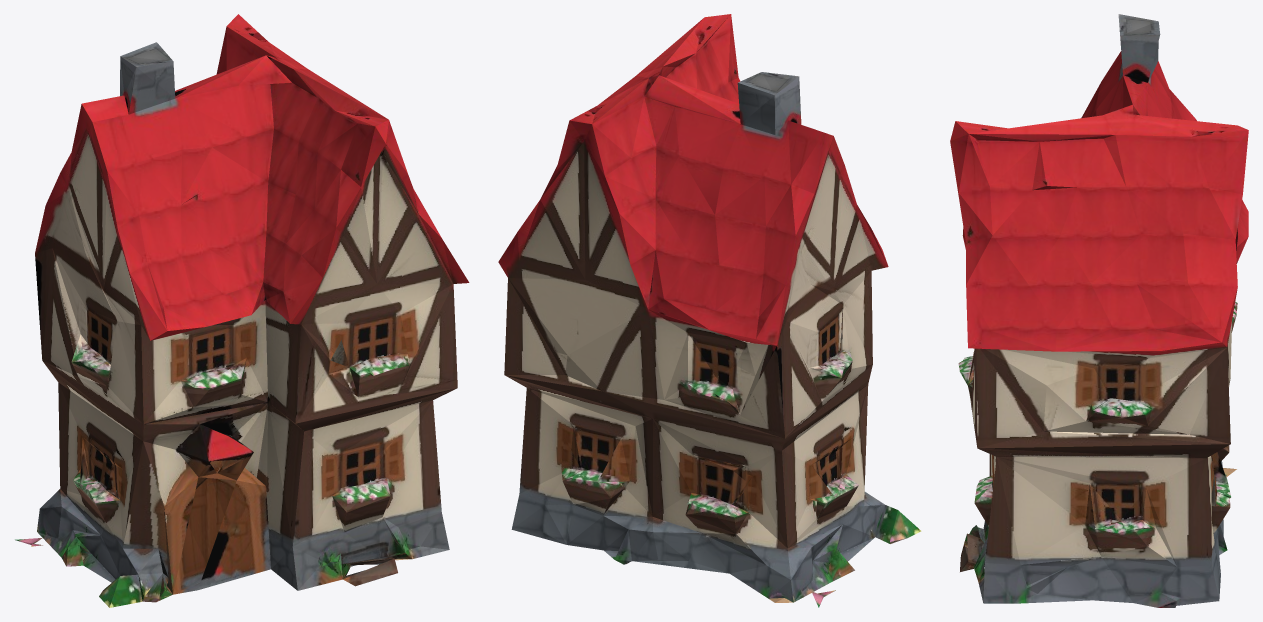
File: house_terra_6_opt1200.glb
3 renders of one model, left to right at view 1: azimuth 30°, elevation 25°; view 2: azimuth 150°, elevation 25°; view 3: azimuth 270°, elevation 25°, orthographic. The views are drawn at different scales.
Parts seen in each view (by area): view 1: opt1200; view 2: opt1200; view 3: opt1200.
Part boxes in pixels (left/top/right/bottom): opt1200: left=15, top=14, right=469, bottom=607; opt1200: left=498, top=14, right=921, bottom=607; opt1200: left=950, top=14, right=1248, bottom=607.
Bounding box in the file's own units: 1.33 × 1.87 × 1.05.
1 material, 1 textured.
